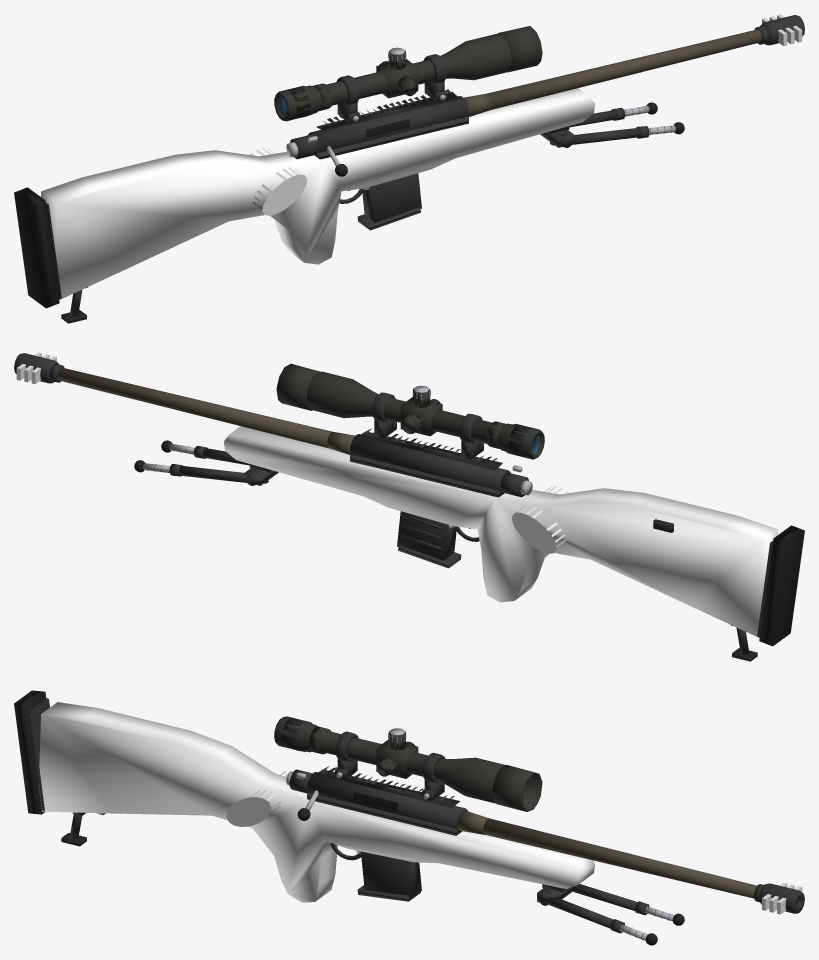
3 views of the same model, one above another, from view 1: azimuth 30°, elevation 25°; view 2: azimuth 150°, elevation 25°; view 3: azimuth 330°, elevation 25° (orthographic).
Visible parts, largest first — view 1: Stock, Scope_Body, Barrel, Butt_Pad, Receiver, Magazine, Thumbhole_Cutter, Scope_Sunshade, Top_Rail, Receiver_Bed, Scope_Saddle, Bipod_Leg_Outer_R (+1 smaller); view 2: Stock, Scope_Body, Barrel, Butt_Pad, Receiver, Magazine, Thumbhole_Cutter, Scope_Sunshade, Top_Rail, Receiver_Bed, Scope_Saddle, Bipod_Leg_Outer_L (+1 smaller); view 3: Stock, Scope_Body, Barrel, Receiver, Magazine, Butt_Pad, Scope_Sunshade, Thumbhole_Cutter, Top_Rail, Receiver_Bed, Scope_Saddle, Muzzle_Brake (+4 smaller).
Part boxes in pixels (left/top/right/bottom): Stock: left=41, top=88, right=595, bottom=299; Scope_Body: left=274, top=34, right=511, bottom=121; Barrel: left=486, top=29, right=761, bottom=109; Butt_Pad: left=14, top=187, right=59, bottom=308; Receiver: left=308, top=96, right=468, bottom=156; Magazine: left=362, top=173, right=421, bottom=222; Thumbhole_Cutter: left=249, top=148, right=307, bottom=215; Scope_Sunshade: left=497, top=26, right=542, bottom=72; Top_Rail: left=316, top=89, right=459, bottom=130; Receiver_Bed: left=316, top=116, right=468, bottom=159; Scope_Saddle: left=376, top=59, right=418, bottom=98; Bipod_Leg_Outer_R: left=567, top=128, right=639, bottom=144; Stock: left=224, top=426, right=777, bottom=637; Scope_Body: left=307, top=371, right=544, bottom=459; Barrel: left=57, top=367, right=332, bottom=447; Butt_Pad: left=759, top=525, right=804, bottom=646; Receiver: left=350, top=434, right=510, bottom=494; Magazine: left=397, top=511, right=456, bottom=560; Thumbhole_Cutter: left=511, top=486, right=569, bottom=553; Scope_Sunshade: left=276, top=363, right=320, bottom=410; Top_Rail: left=359, top=428, right=502, bottom=470; Receiver_Bed: left=350, top=454, right=502, bottom=497; Scope_Saddle: left=400, top=397, right=442, bottom=436; Bipod_Leg_Outer_L: left=179, top=466, right=251, bottom=482; Stock: left=38, top=702, right=594, bottom=902; Scope_Body: left=274, top=716, right=505, bottom=803; Barrel: left=483, top=818, right=756, bottom=898; Receiver: left=307, top=772, right=467, bottom=832; Magazine: left=361, top=851, right=421, bottom=898; Butt_Pad: left=14, top=690, right=46, bottom=814; Scope_Sunshade: left=492, top=765, right=542, bottom=811; Thumbhole_Cutter: left=226, top=771, right=292, bottom=826; Top_Rail: left=316, top=766, right=459, bottom=808; Receiver_Bed: left=307, top=792, right=459, bottom=835; Scope_Saddle: left=376, top=739, right=418, bottom=778; Muzzle_Brake: left=759, top=883, right=804, bottom=913.
Size of the model in its own units: 1.25 by 0.2905 by 0.111.
